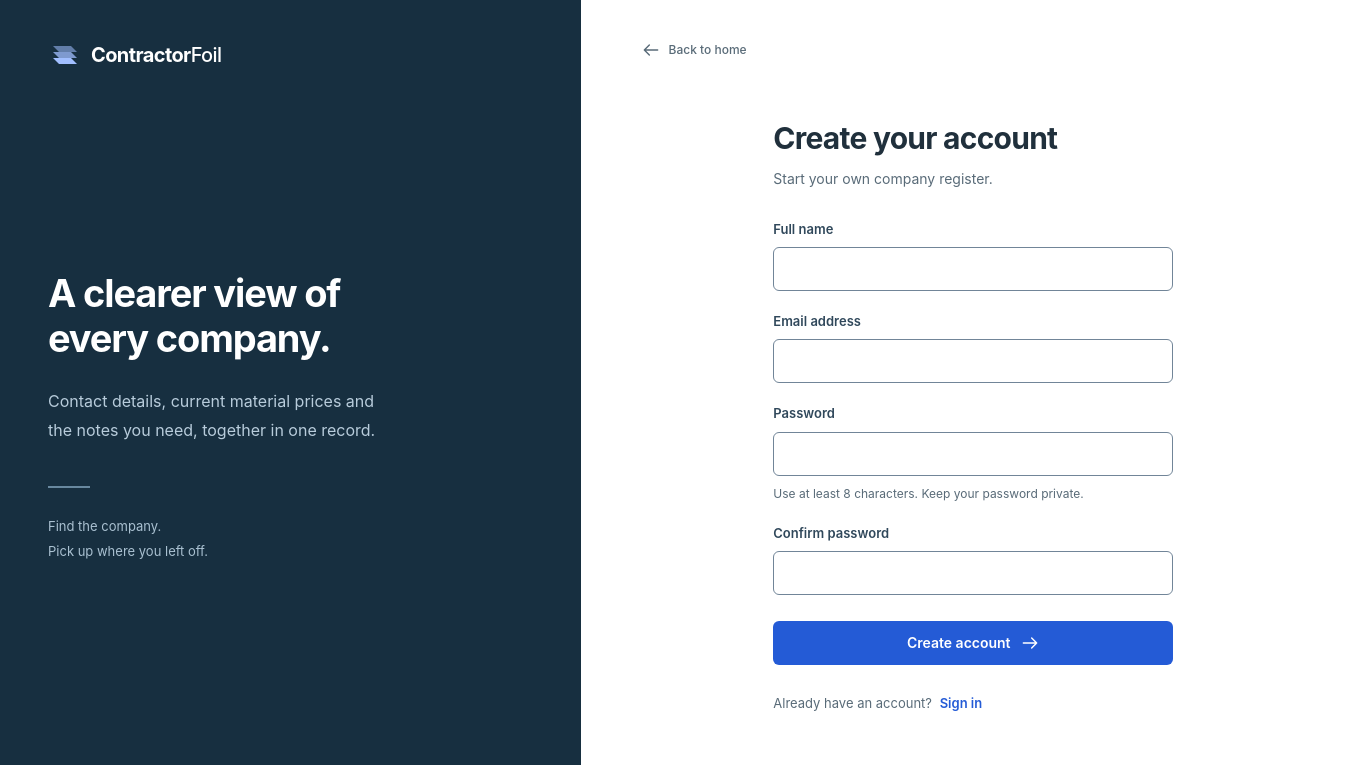
registers into a persisted working session without loading CAPTCHA by default
In the field labelled "Full name": (973, 269) [773,247,1173,291], type "Alex Morgan"
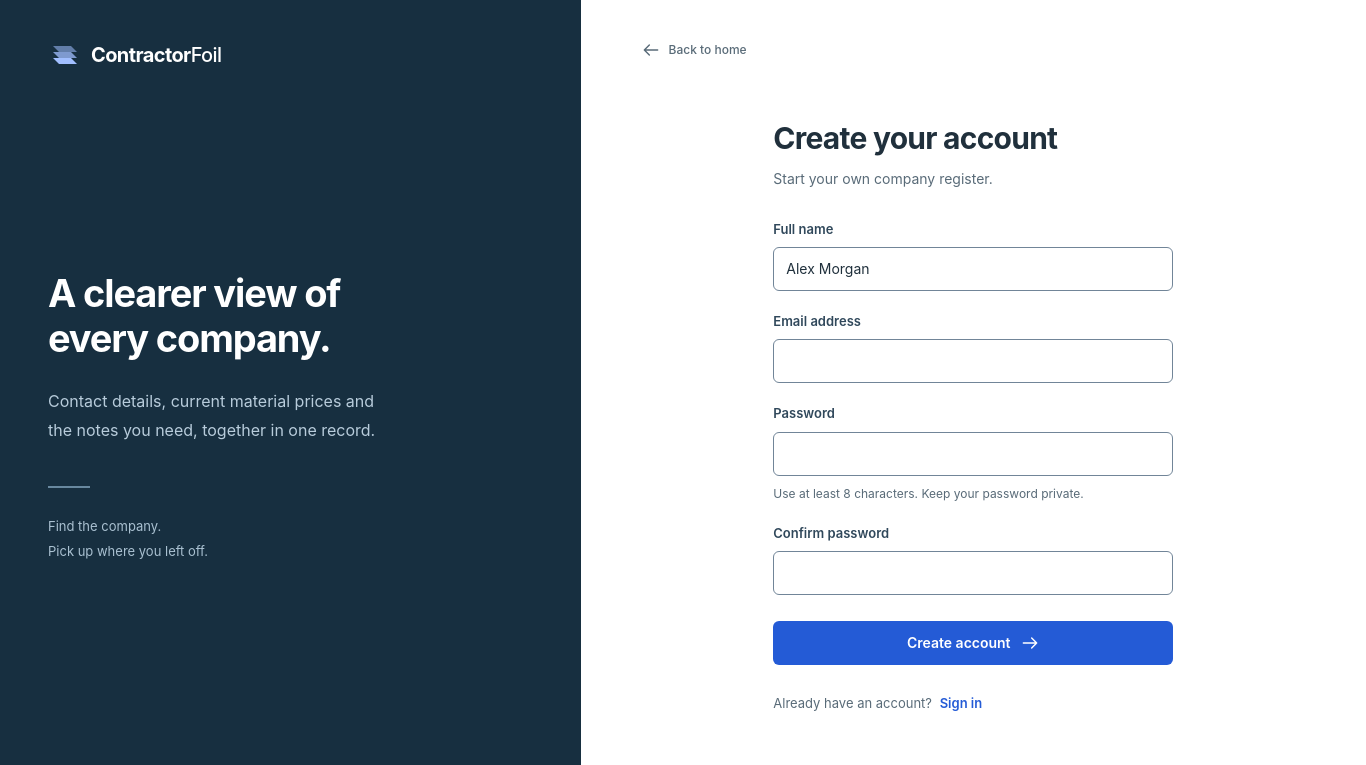
In the field labelled "Email address": (973, 362) [773,340,1173,384], type "alex@example.test"
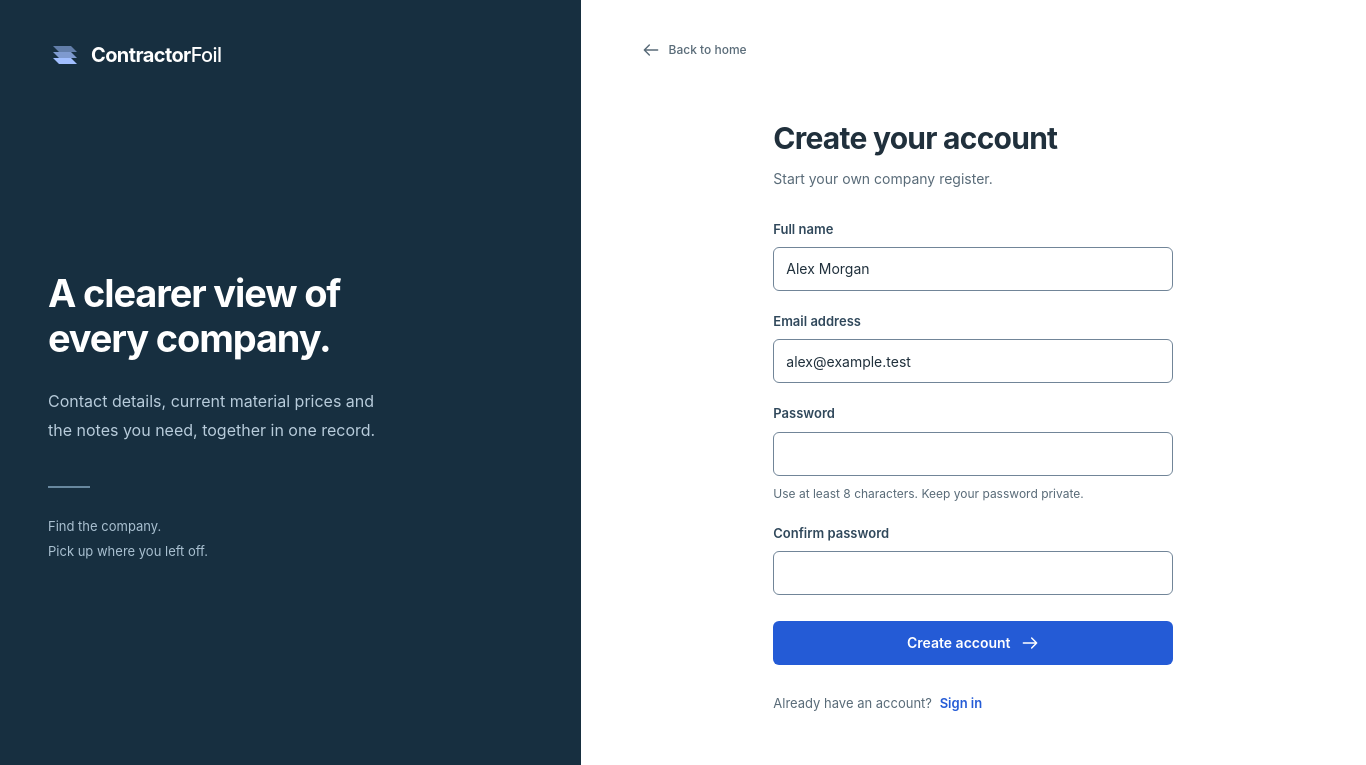
In the password field labelled "Password": (973, 454) [773,432,1173,476], type "ExamplePassword1!"
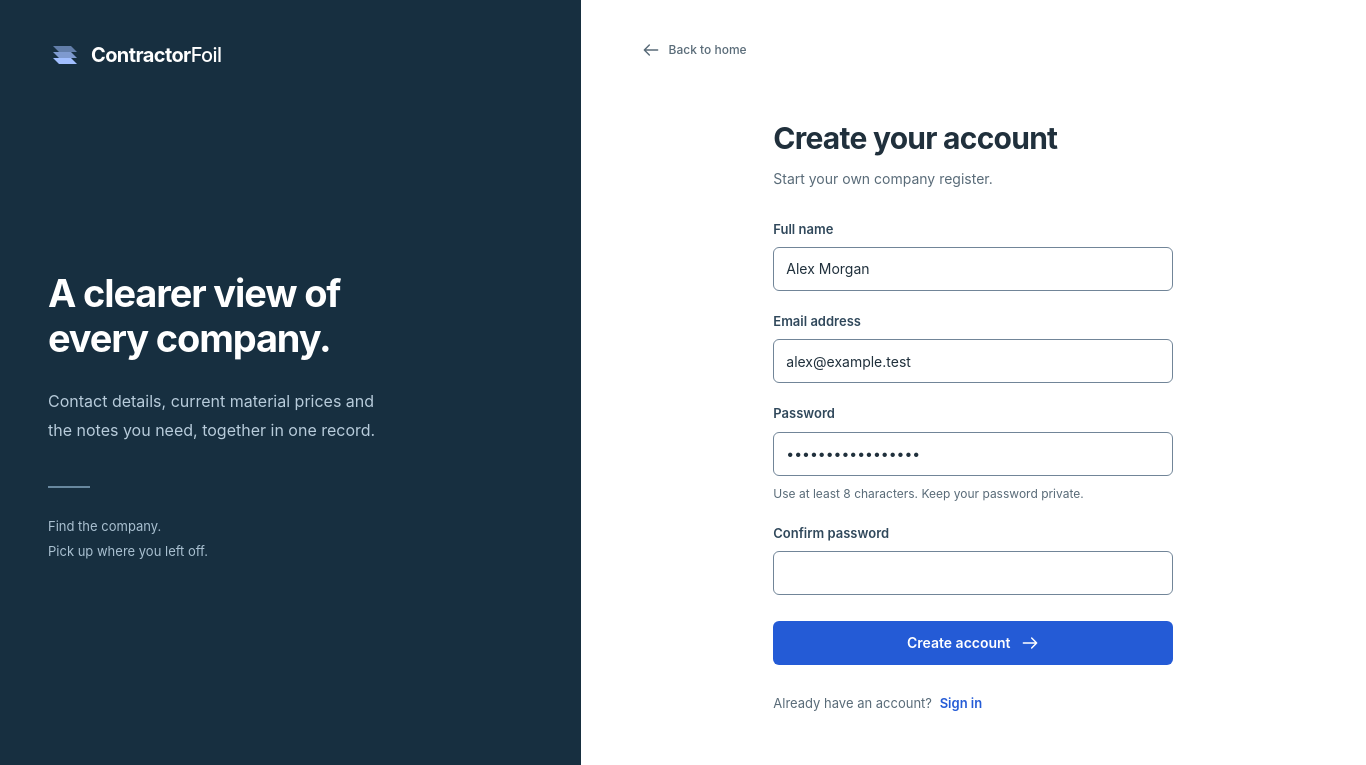
In the password field labelled "Confirm password": (973, 573) [773,551,1173,595], type "ExamplePassword1!"
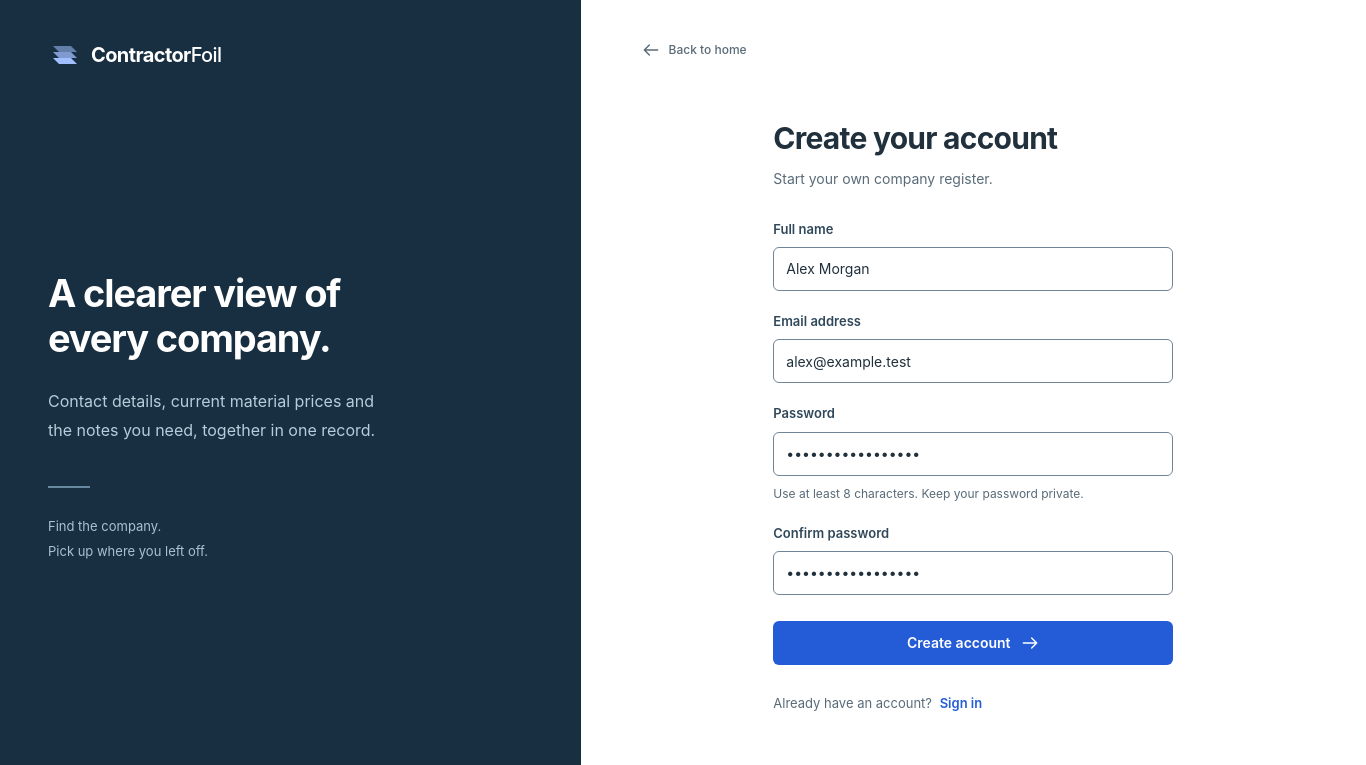
Click the button "Create account": (973, 643) [773,621,1173,665]
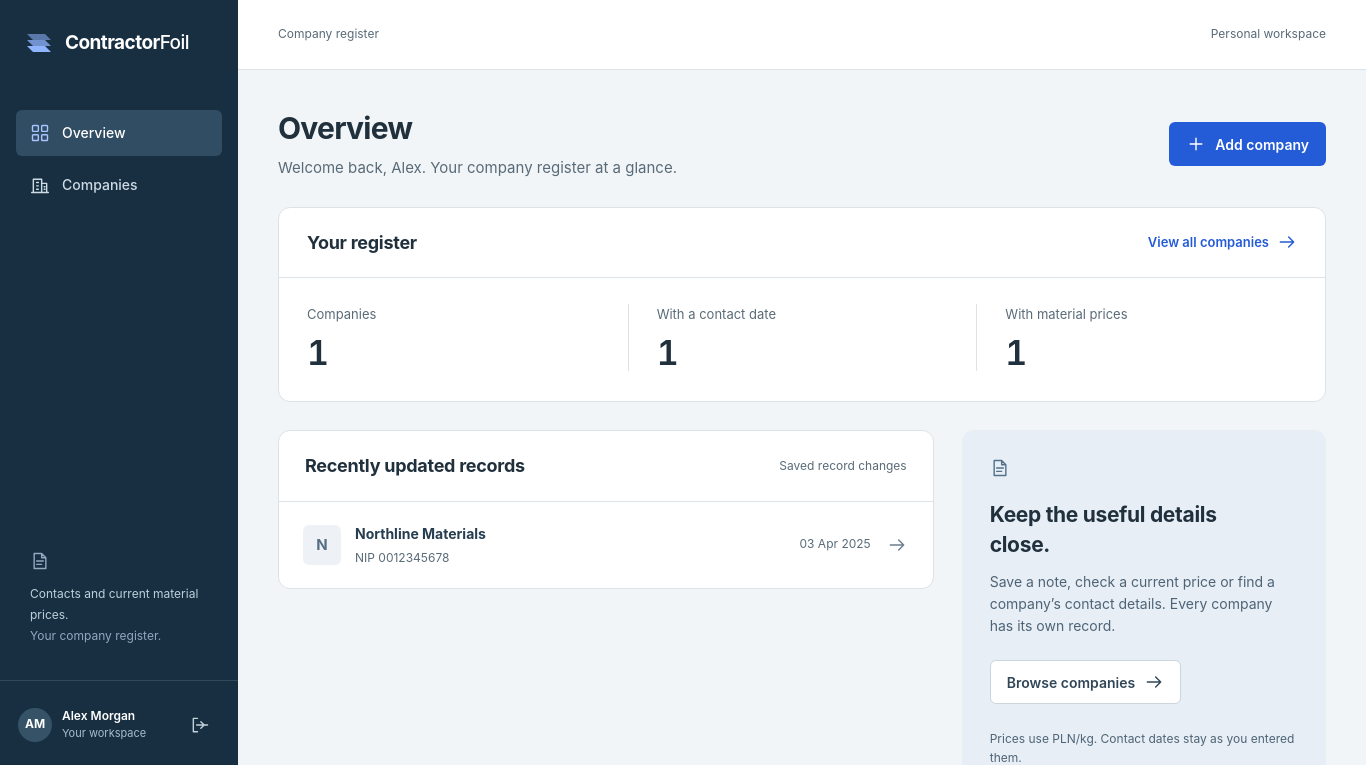
Now the heading "Overview" is shown, box [278,110,412,146]
